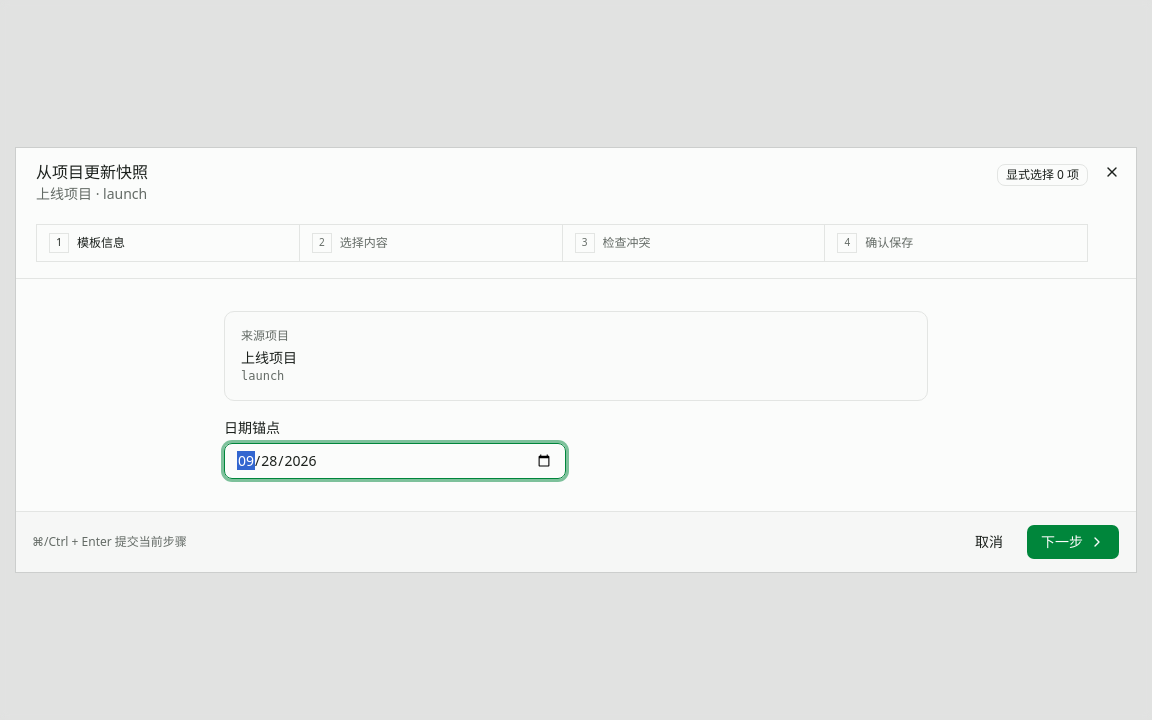
Test case: ProjectTemplateCaptureWizard › keeps create-without-input available for config without a project row
Step 1. Click the button "下一步" → (1073, 542), box [1026,524,1120,560]
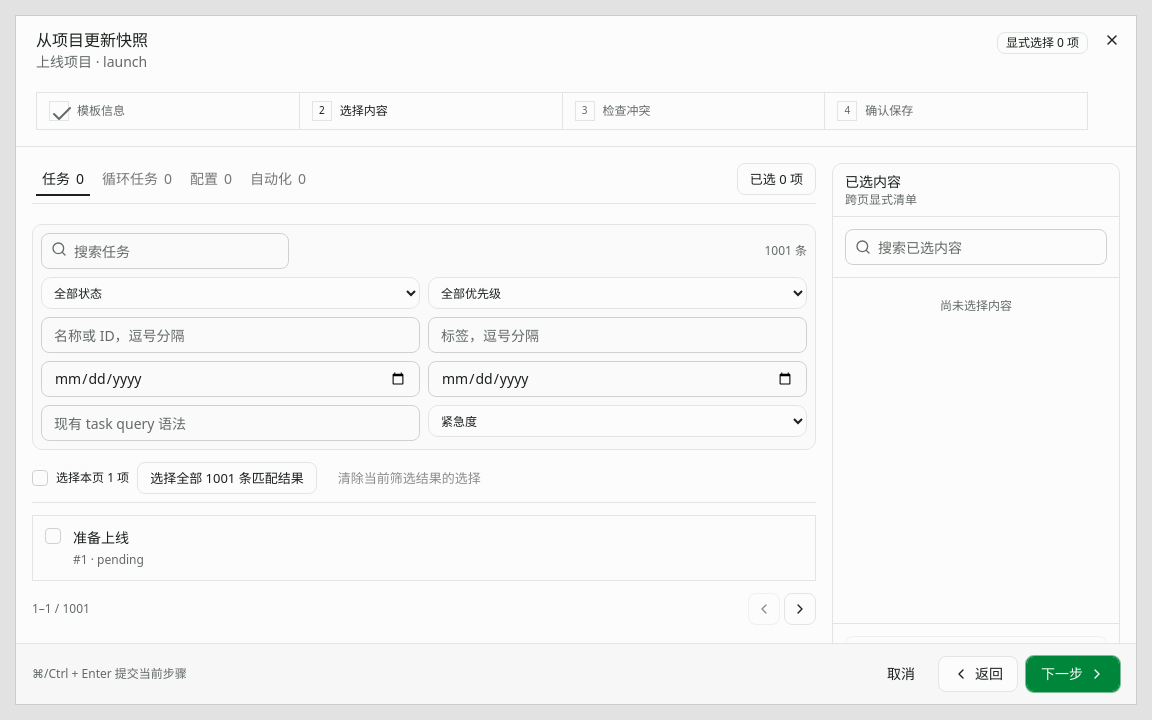
Check: the tab "任务 0" is shown, box [35,166,91,192]
Step 2. Click the tab "配置 0" → (211, 179), box [183,166,239,192]
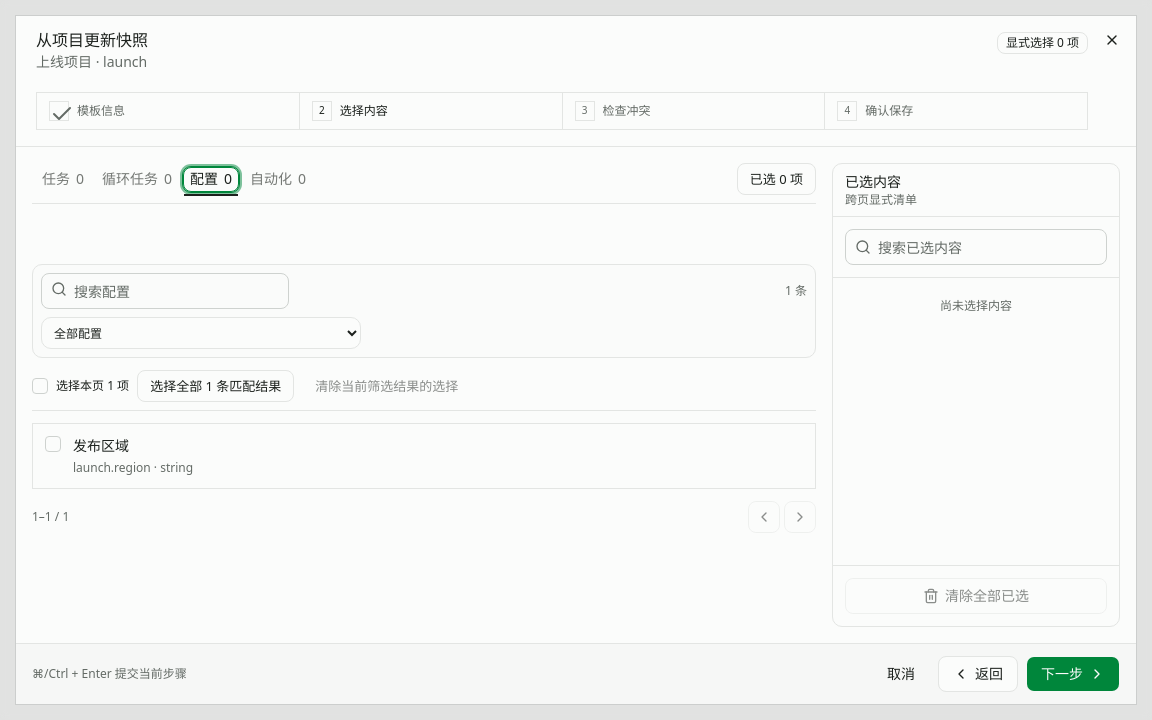
Step 3. Click the checkbox named "发布区域" → (53, 444), box [45,436,61,452]
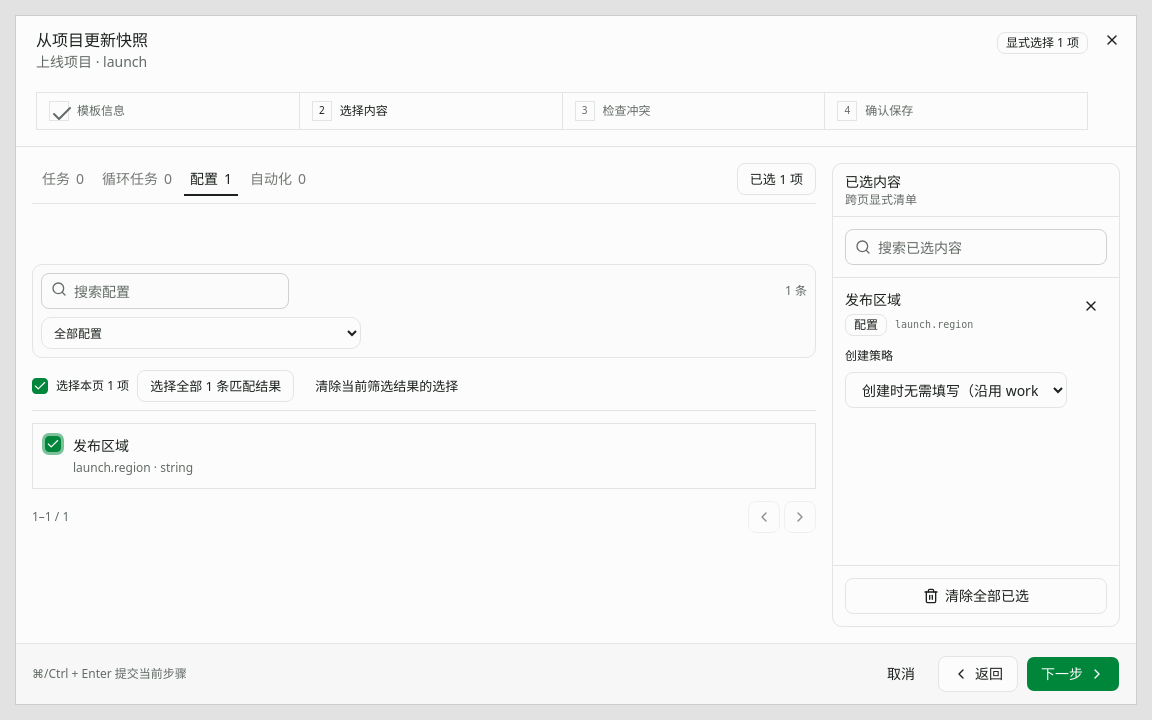
Check: the dropdown labelled "创建策略" shows "创建时无需填写（沿用 workspace/default）", box [845,372,1067,408]
Step 4. Click the button "下一步" → (1073, 674), box [1026,656,1120,692]
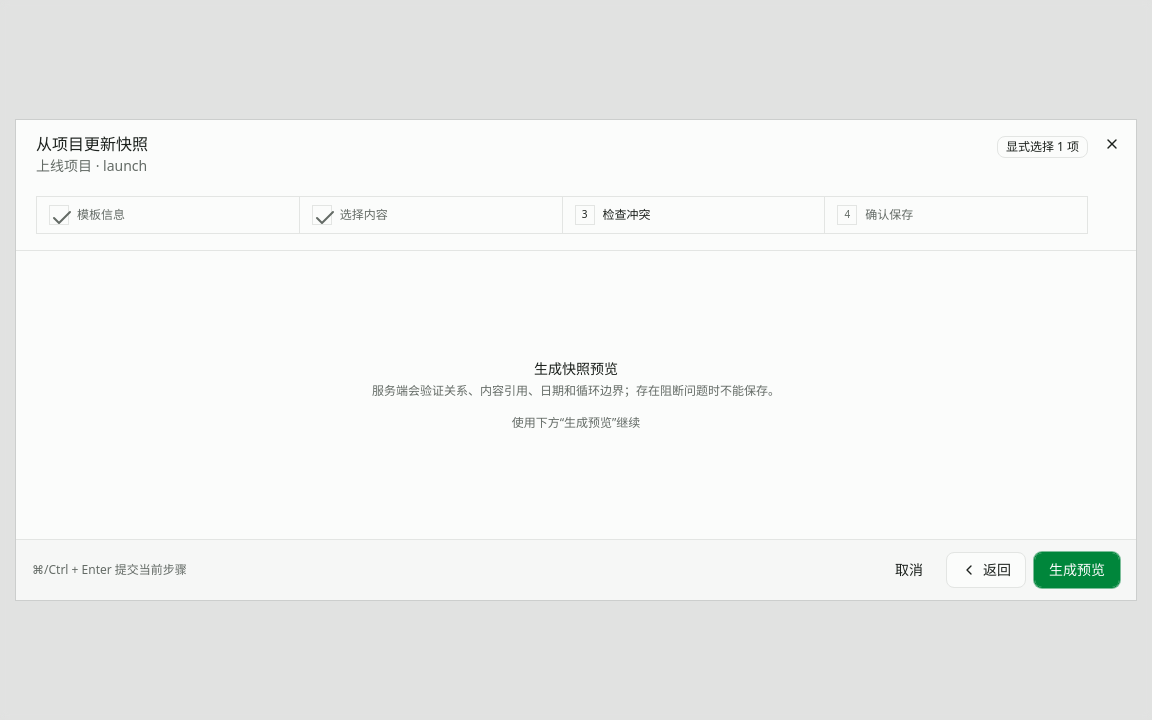
Step 5. Click the button "生成预览" → (1077, 570), box [1034,552,1120,588]
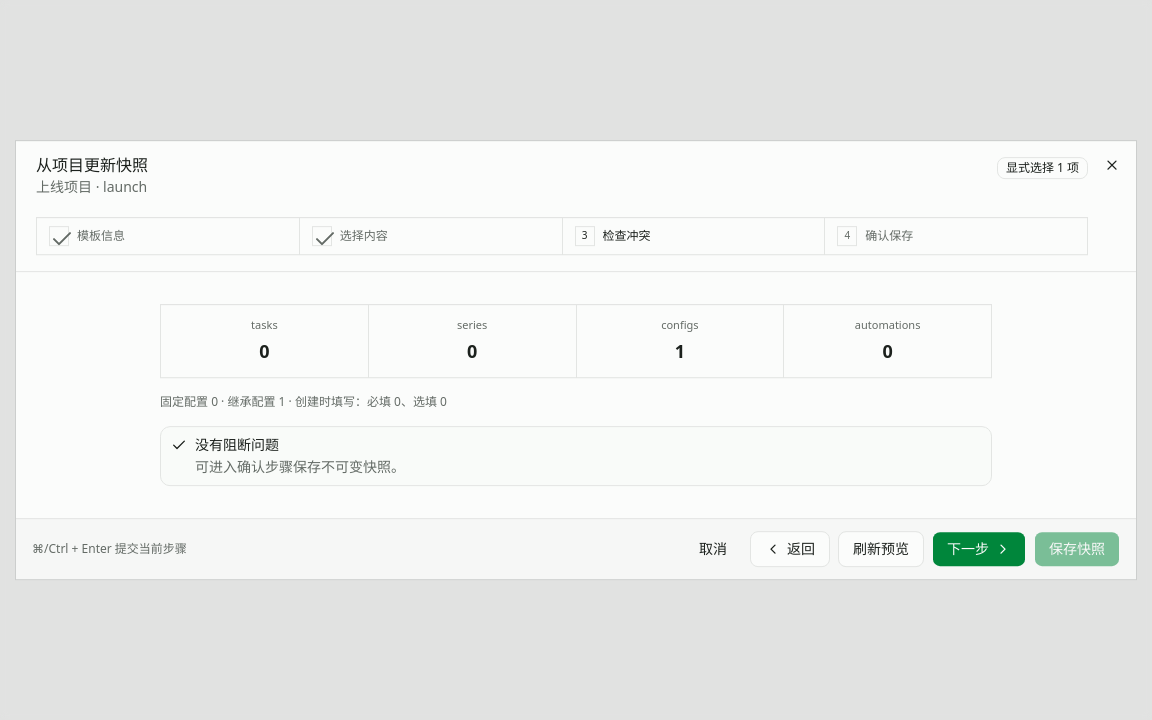
Check: the text "固定配置 0 · 继承配置 1 · 创建时填写：必填 0、选填 0" is shown, box [160,393,447,410]
